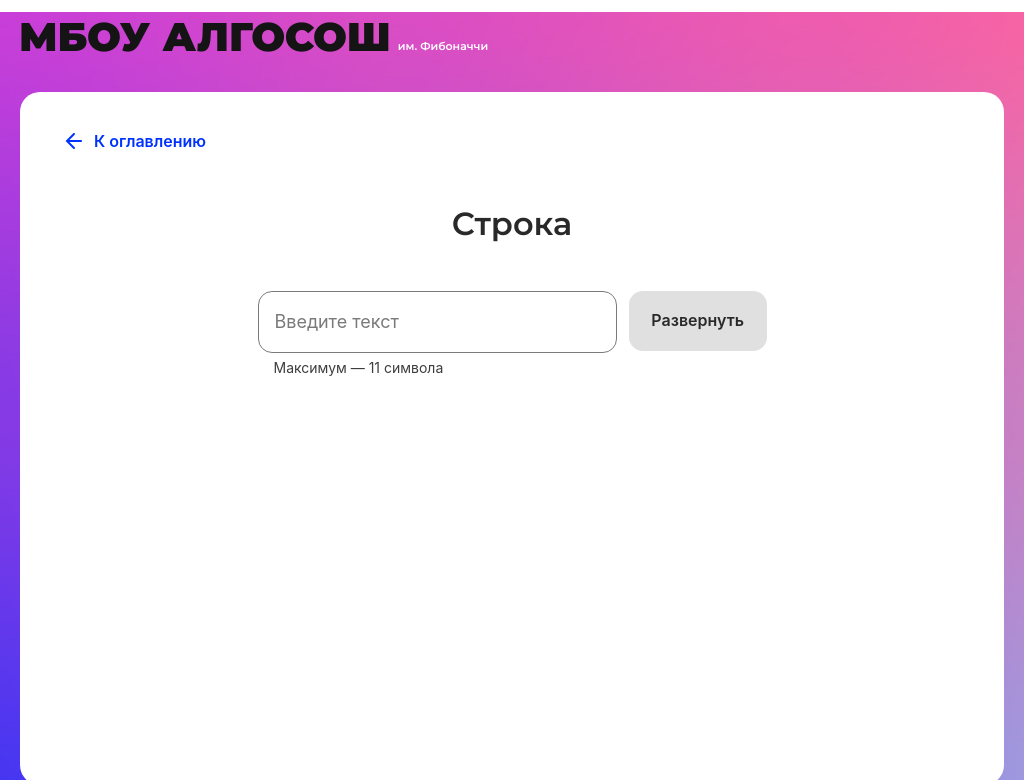
Test: should work submit button and algorithms on the recursion's page › should work algorithm unwrap string
Type "abcd" into the field with placeholder "Введите текст" at (438, 322), box x1=258 y1=291 x2=617 y2=353
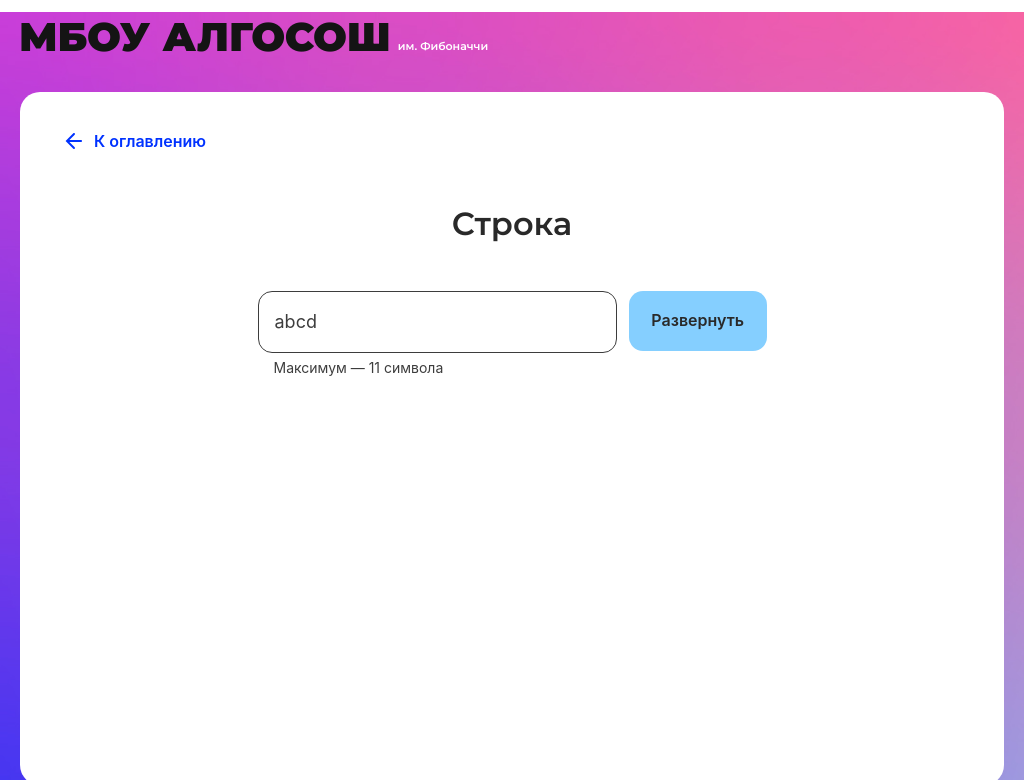
Click the submit button at (698, 321), box x1=629 y1=291 x2=767 y2=351
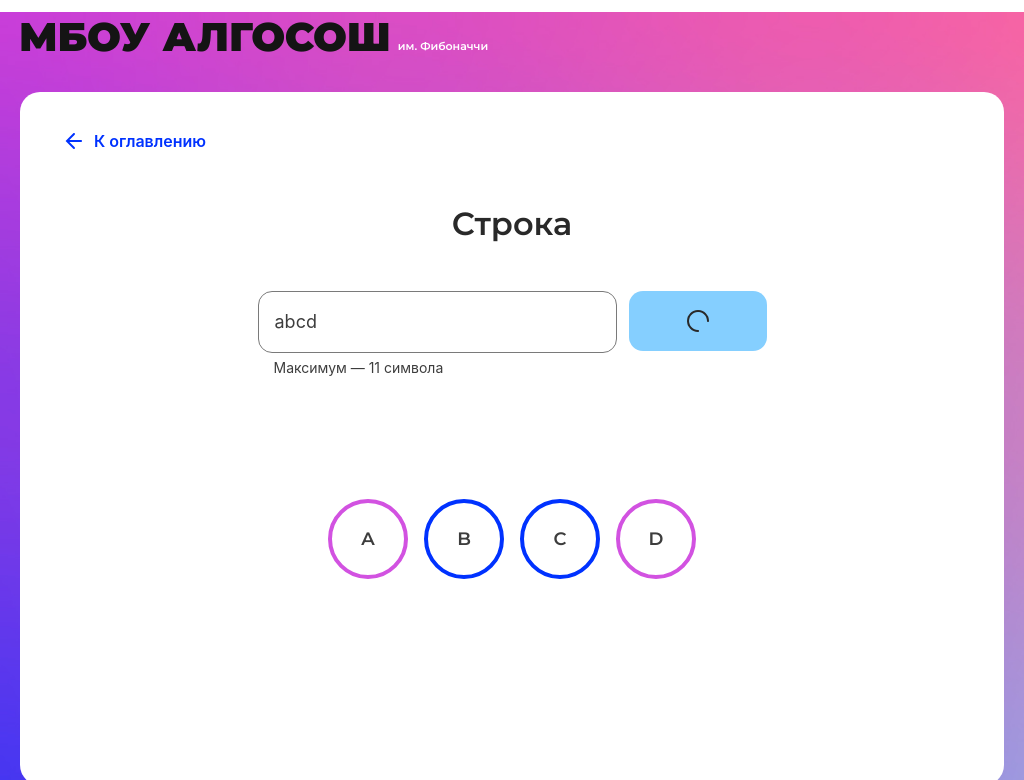
Now the text "a" is shown, box x1=361 y1=528 x2=375 y2=550
Now the text "b" is shown, box x1=457 y1=528 x2=471 y2=550
Now the text "c" is shown, box x1=554 y1=528 x2=566 y2=550
Wait "1000"
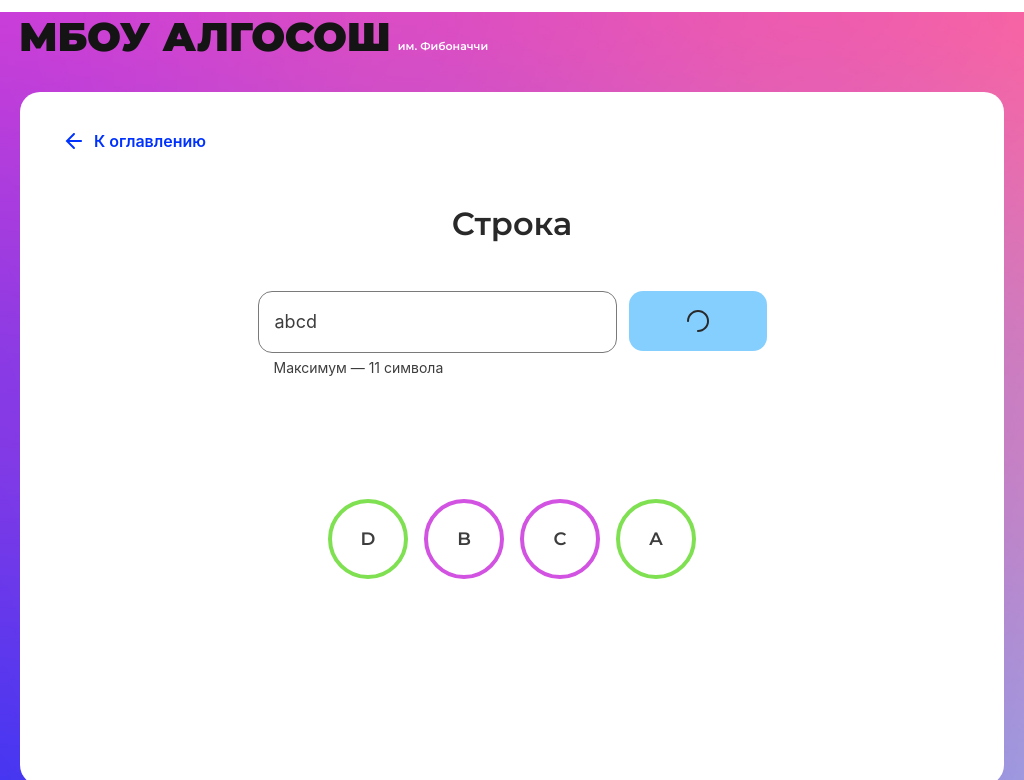
Now the text "d" is shown, box x1=361 y1=528 x2=376 y2=550
Now the text "b" is shown, box x1=457 y1=528 x2=471 y2=550
Now the text "c" is shown, box x1=554 y1=528 x2=566 y2=550
Wait "1000"
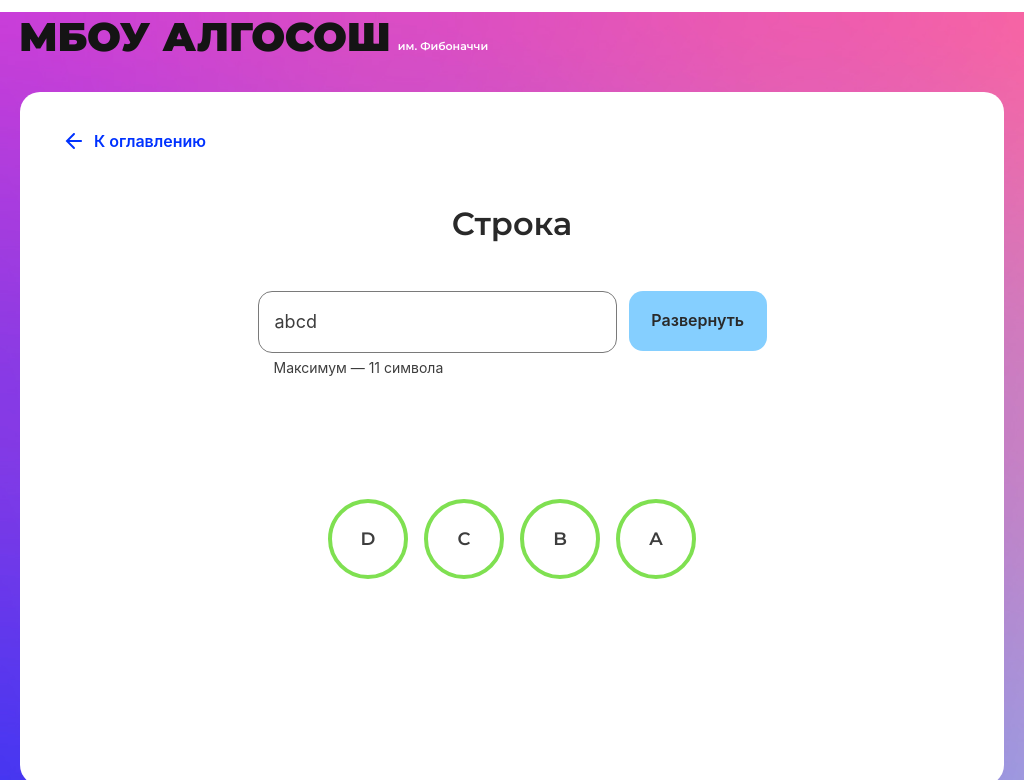
Now the text "d" is shown, box x1=361 y1=528 x2=376 y2=550
Now the text "c" is shown, box x1=458 y1=528 x2=470 y2=550
Now the text "b" is shown, box x1=553 y1=528 x2=567 y2=550
